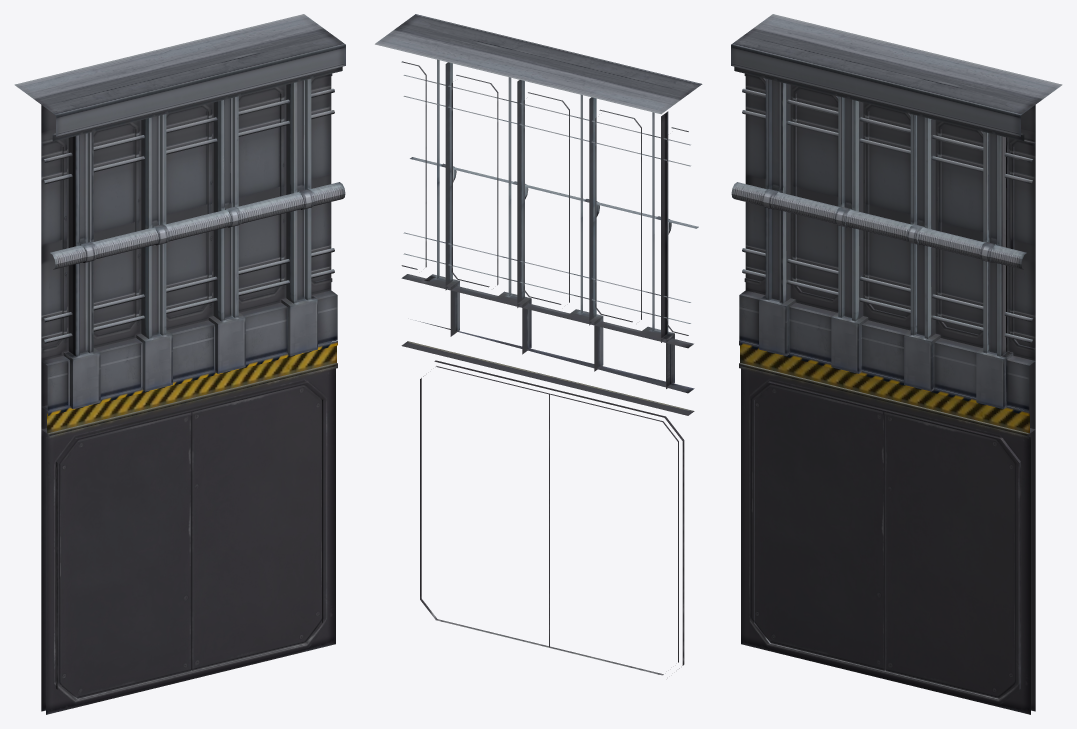
The model's file is kit_wall_plain.glb.
3 renders of one model, left to right at view 1: azimuth 30°, elevation 25°; view 2: azimuth 150°, elevation 25°; view 3: azimuth 330°, elevation 25°, orthographic.
Parts seen in each view (by area): view 1: kit_wall_plain.001; view 2: kit_wall_plain.001; view 3: kit_wall_plain.001.
Boxes of the visible parts, <box> form: kit_wall_plain.001: <box>14,14,345,714</box>; kit_wall_plain.001: <box>375,14,702,675</box>; kit_wall_plain.001: <box>731,14,1062,714</box>.
Size of the model in its own units: 4 by 8 by 1.
Materials: 4 (4 with a texture image).
